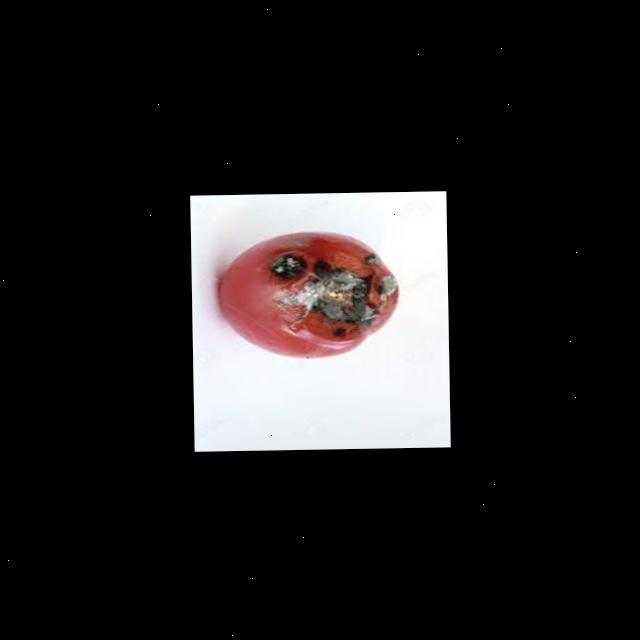tomato: (214, 224, 405, 366)
